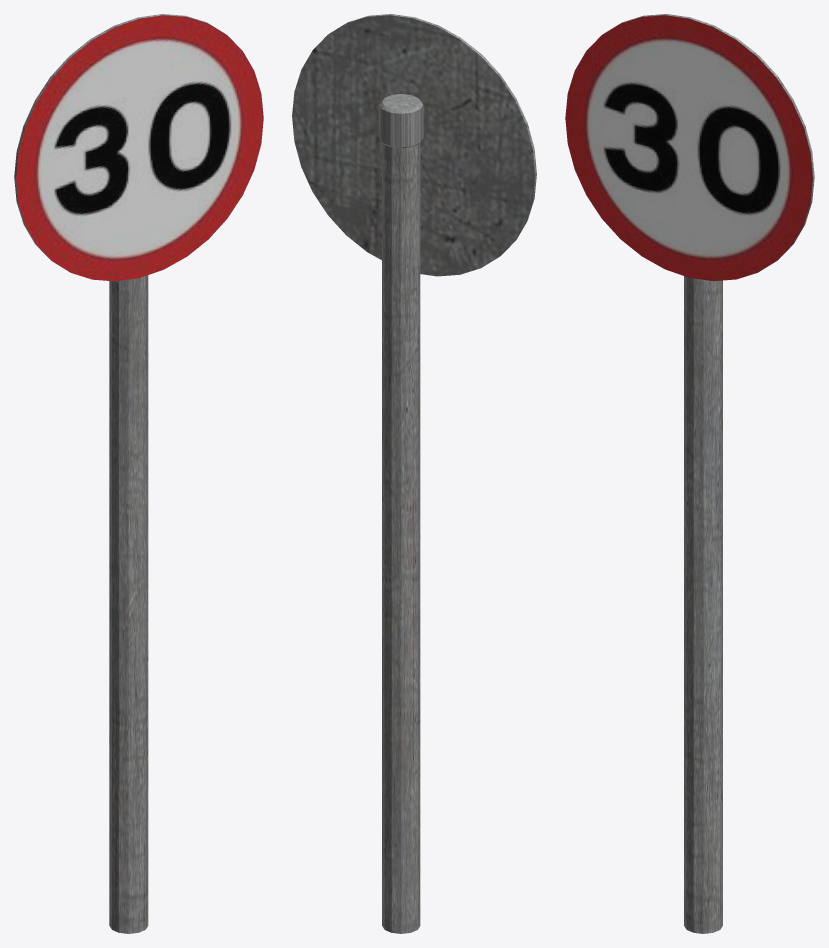
The model's file is modular-city-road-pack-game-ready-cylinder-005-24.glb.
3 renders of one model, left to right at view 1: azimuth 30°, elevation 25°; view 2: azimuth 150°, elevation 25°; view 3: azimuth 330°, elevation 25°, orthographic.
Parts seen in each view (by area): view 1: Cylinder.005_24; view 2: Cylinder.005_24; view 3: Cylinder.005_24.
Boxes of the visible parts, x1,y1,x2,y2 form: Cylinder.005_24: (14,14,263,933); Cylinder.005_24: (292,14,536,933); Cylinder.005_24: (565,14,814,933).
Bounding box in the file's own units: 0.6262 × 2.21 × 0.1049.
Materials: 2 (2 with a texture image).
